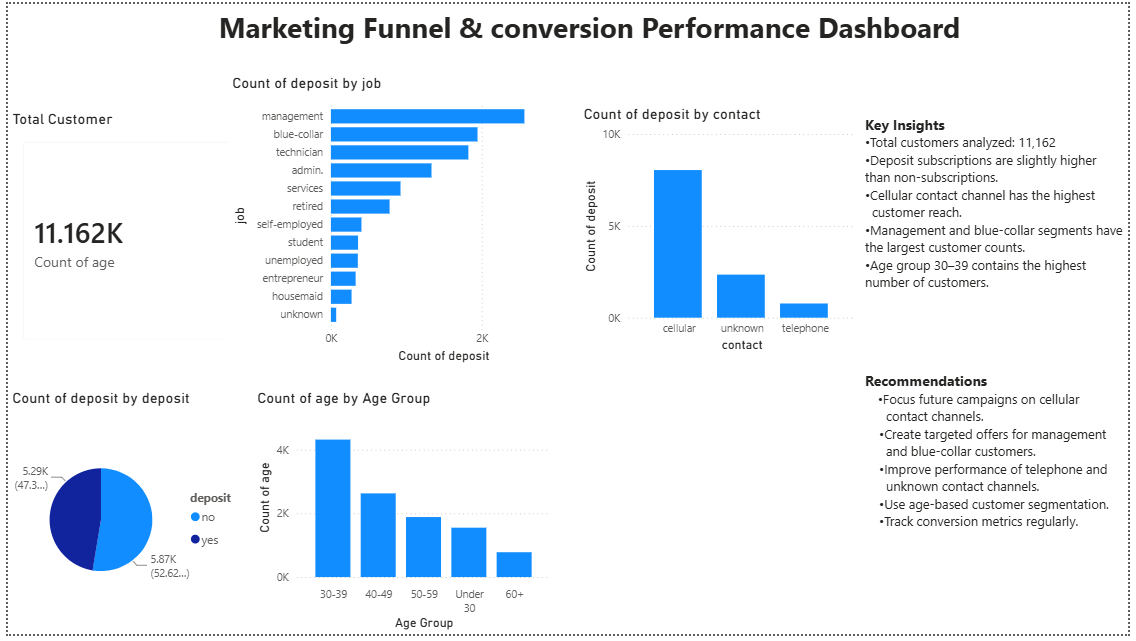

The page's visual inventory and layout, read from the dashboard file:
{"tool":"powerbi","page":{"name":"Page 1","canvas":[1280,720],"ordinal":0},"visuals":[{"type":"cardVisual","title":"Total Customer","fields":{"Data":["CountNonNull(bank.age)"]},"box":[0,122.1,279.9,279.9],"z":0},{"type":"pieChart","fields":{"Category":["bank.deposit"],"Y":["CountNonNull(bank.deposit)"]},"box":[0,440.5,279.9,279.9],"z":1000},{"type":"clusteredColumnChart","fields":{"Category":["bank.contact"],"Y":["CountNonNull(bank.deposit)"]},"box":[653.2,115.3,321.1,286.8],"z":2000},{"type":"barChart","fields":{"Category":["bank.job"],"Y":["CountNonNull(bank.deposit)"]},"box":[251.1,79.6,388.3,334.8],"z":3000},{"type":"clusteredColumnChart","fields":{"Category":["bank.Age Group"],"Y":["CountNonNull(bank.age)"]},"box":[279.9,440.5,345.8,279.9],"z":4000},{"type":"textbox","box":[974.3,122.1,306,318.4],"z":4001},{"type":"textbox","box":[974.3,414.4,306,306],"z":4002},{"type":"textbox","box":[236,0,1026.4,79.6],"z":4003}]}

Visuals, with their boxes in screenshot pixels (x1, y1, x2, y2), scaled from the page's 1280x720 canvas onto the 1136x641 screenshot:
"Total Customer" cardVisual: l=0, t=109, r=248, b=358
pieChart - bank.deposit x CountNonNull(bank.deposit): l=0, t=392, r=248, b=640
clusteredColumnChart - bank.contact x CountNonNull(bank.deposit): l=580, t=103, r=865, b=358
barChart - bank.job x CountNonNull(bank.deposit): l=223, t=71, r=567, b=369
clusteredColumnChart - bank.Age Group x CountNonNull(bank.age): l=248, t=392, r=555, b=640
textbox: l=865, t=109, r=1135, b=392
textbox: l=865, t=369, r=1135, b=640
textbox: l=209, t=0, r=1120, b=71
